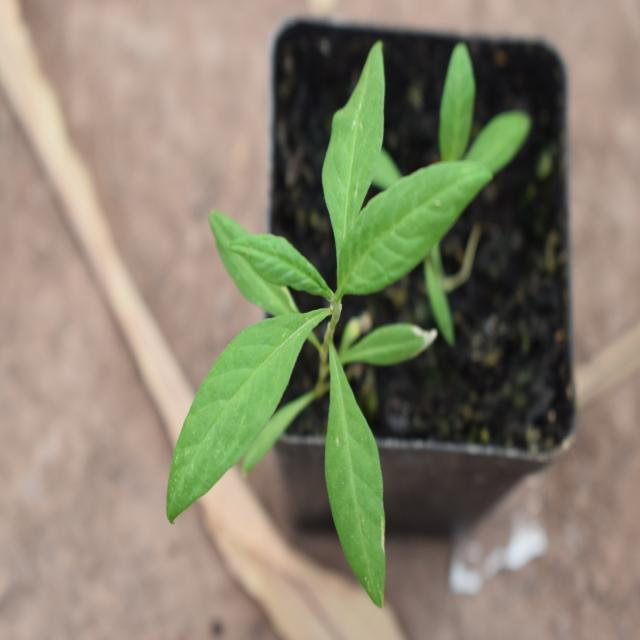white_smart_weed: (172, 51, 471, 572)
